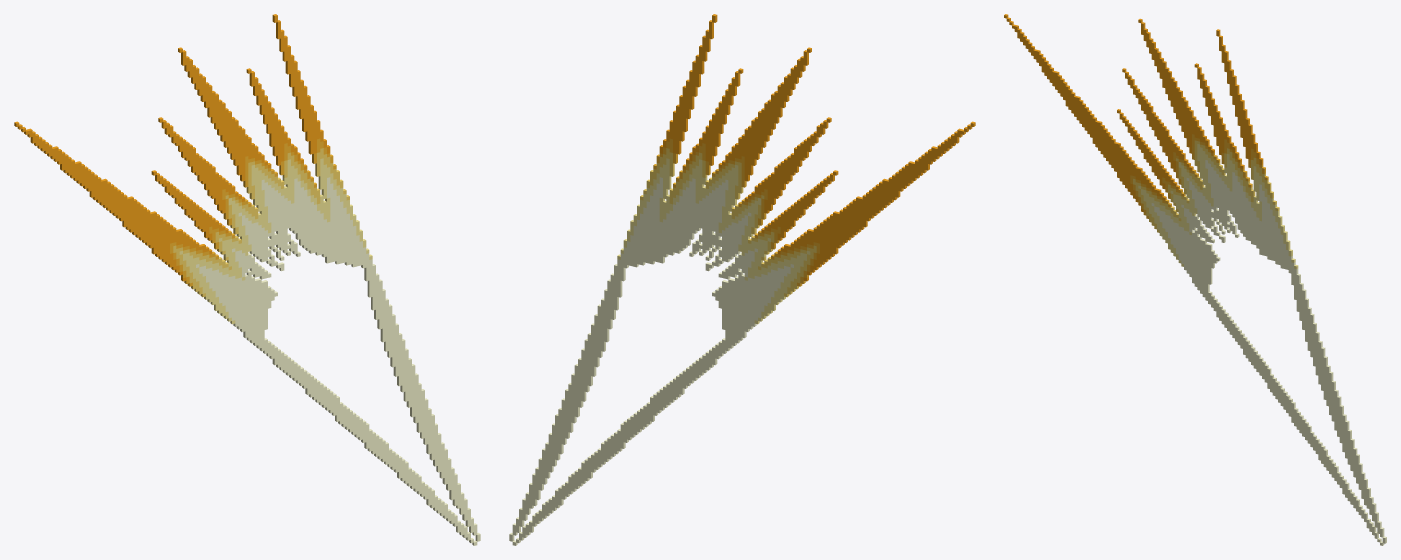
File: Fight_736_2_06_fx.obj
The picture shows the model from 3 angles, left to right: view 1: azimuth 30°, elevation 25°; view 2: azimuth 150°, elevation 25°; view 3: azimuth 330°, elevation 25°; orthographic projection. The views are drawn at different scales.
Size of the model in its own units: 14.2 by 16.9 by 0.1.
Materials: 1 (1 with a texture image).
